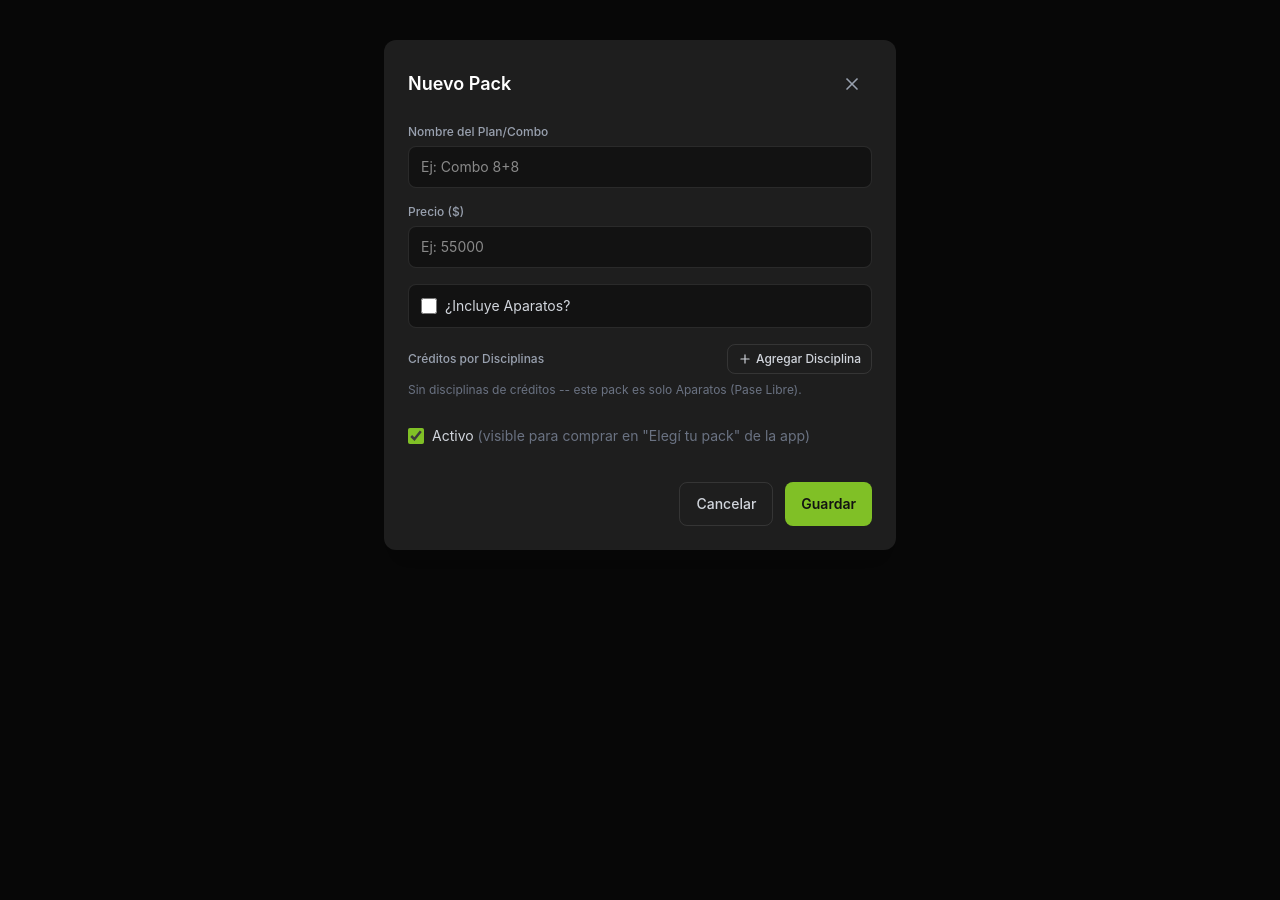
Test: PackModal -- alta/edición de un pack/combo real de `packs` (precio/créditos que usa Mercado Pago) › "Agregar Disciplina" agrega una fila de disciplina + créditos -- Aparatos no aparece en el selector (se maneja con el switch)
Click the button "Agregar Disciplina" at (800, 359), box [727,344,872,374]
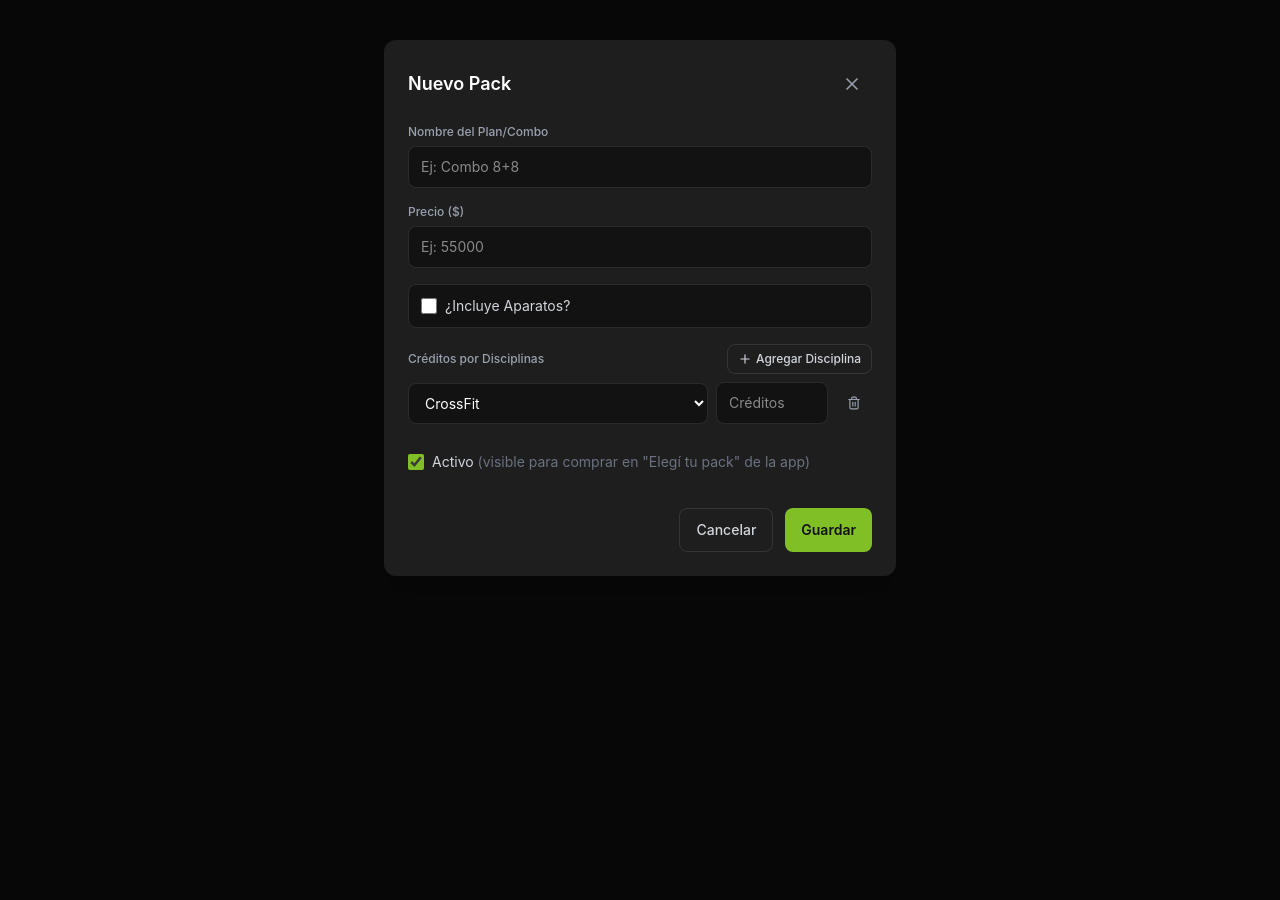
Expected: the dropdown named "Disciplina 1" is shown, [408,382,708,424]
Expected: the number field named "Créditos 1" is shown, [716,382,828,424]
